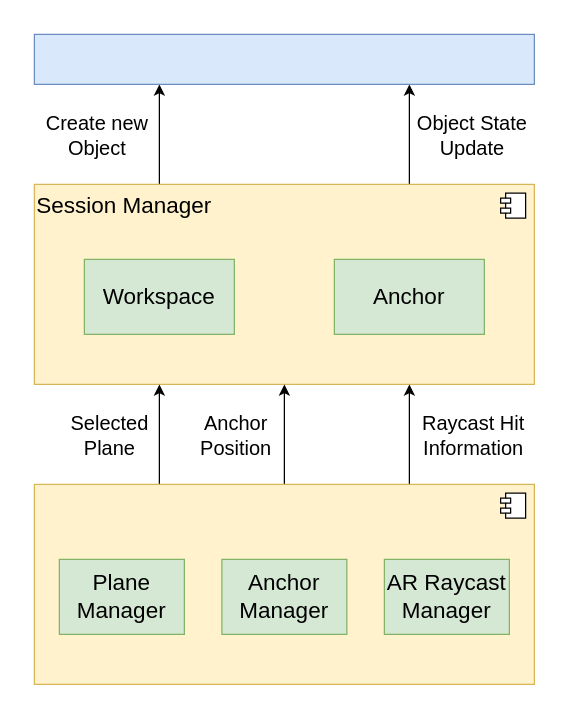
Some shapes in this 568 by 718 pixel diagram are drawn without their labels. The box of each missing label's shape, as (x1, y1, x2, y2) in pixels:
Digital Room: (33, 33, 534, 84)
Tracking Manager: (33, 483, 534, 684)
